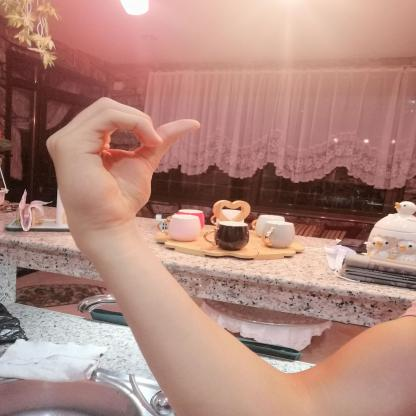WAW: (33, 87, 214, 238)
